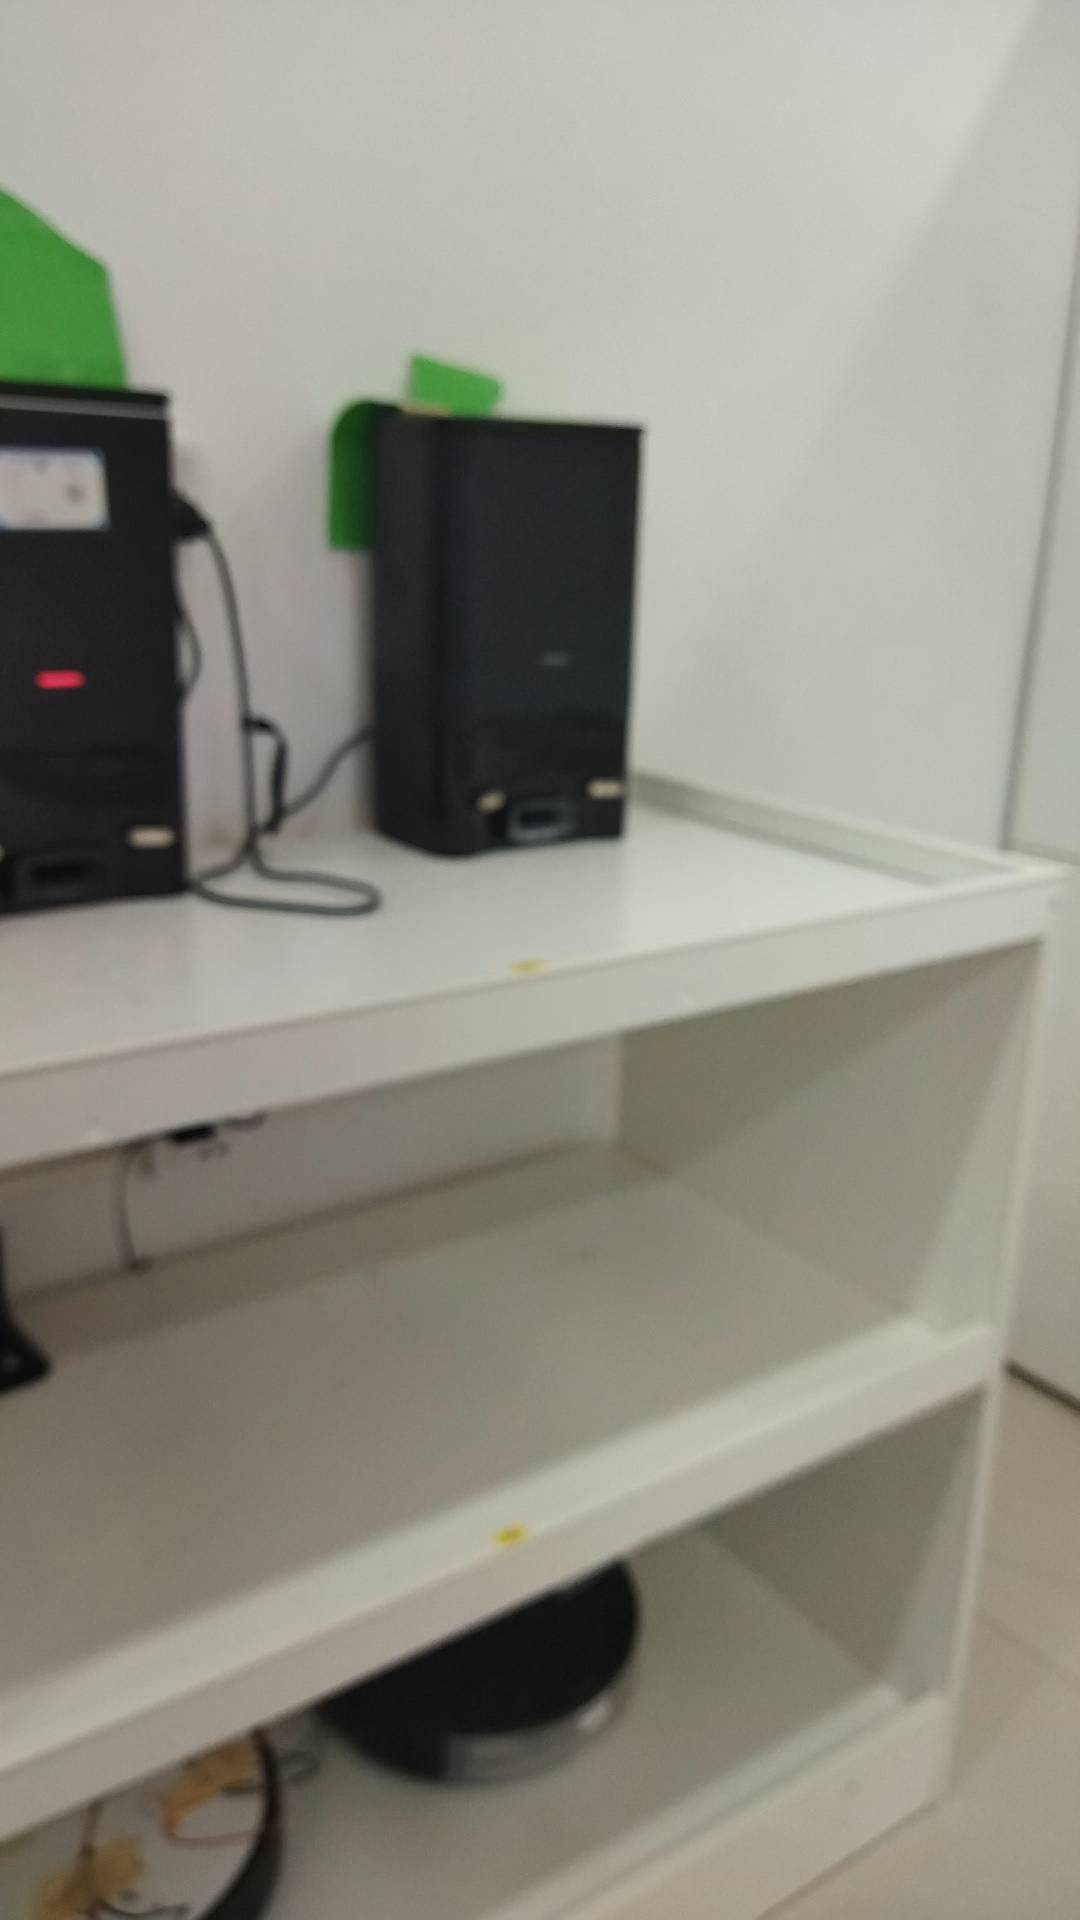dust collecting barrel: (361, 404, 650, 861), (1, 376, 189, 920)
